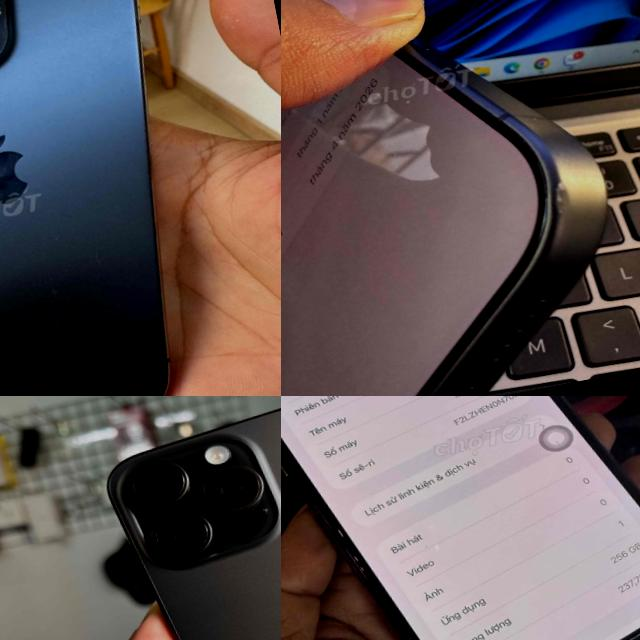gen_11: (281, 396, 640, 640)
gen_15: (0, 0, 231, 396), (81, 396, 281, 640)
gen_17: (281, 41, 606, 396)
